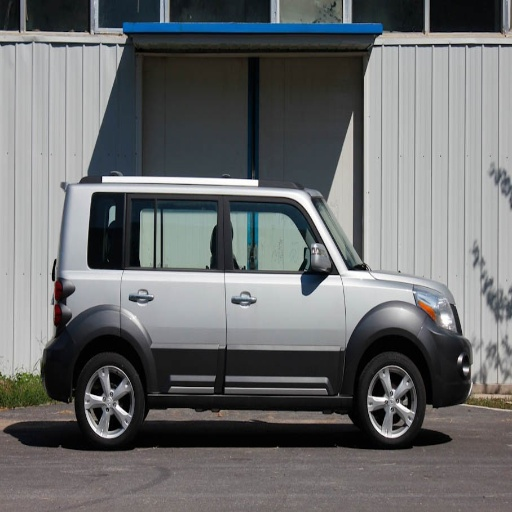back_right_door: (124, 191, 226, 390)
front_right_door: (222, 194, 345, 388)
